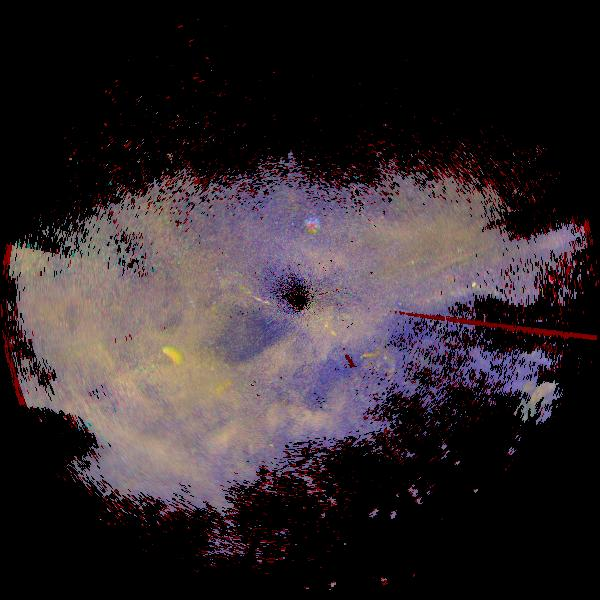roost: (132, 334, 195, 397)
